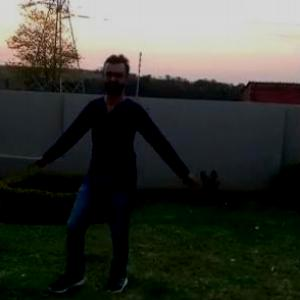land: (61, 72, 175, 239)
